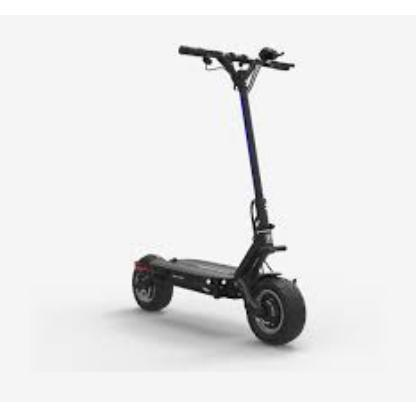bike: (132, 45, 307, 348)
